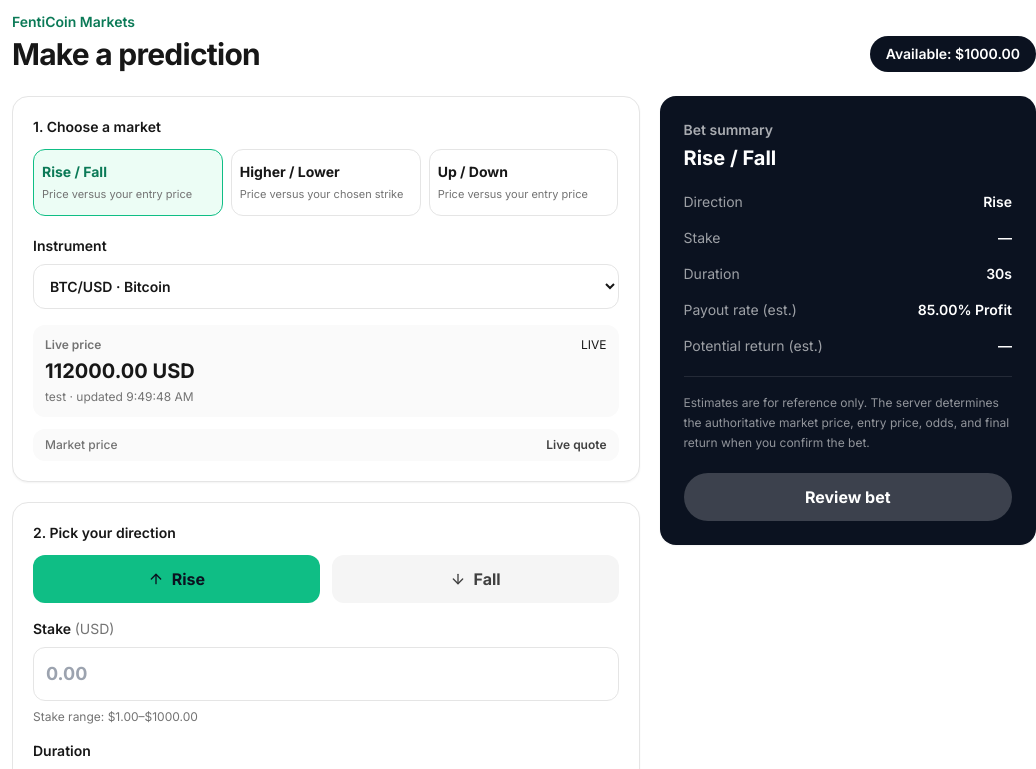
Test: BettingExperience › keeps Review bet disabled until a valid, in-bounds, affordable stake is entered
Expected: the button "Review bet" is disabled, [684, 473, 1012, 521]
Step 1. Select "BTC/USD · Bitcoin" in the dropdown labelled "Instrument" → (326, 286), box [33, 264, 618, 308]
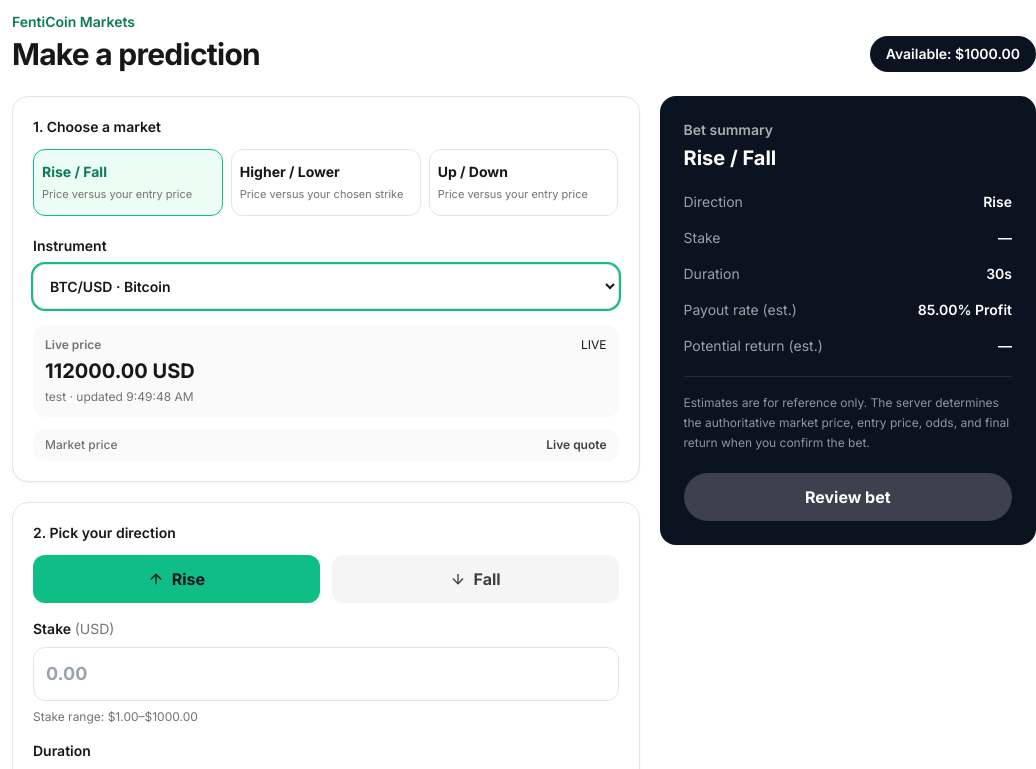
Expected: the text "Stake range: $1.00–$1000.00" is shown, [33, 708, 198, 724]
Step 2. Type "10" into the field labelled "Stake (USD)" → (326, 674), box [33, 646, 618, 700]
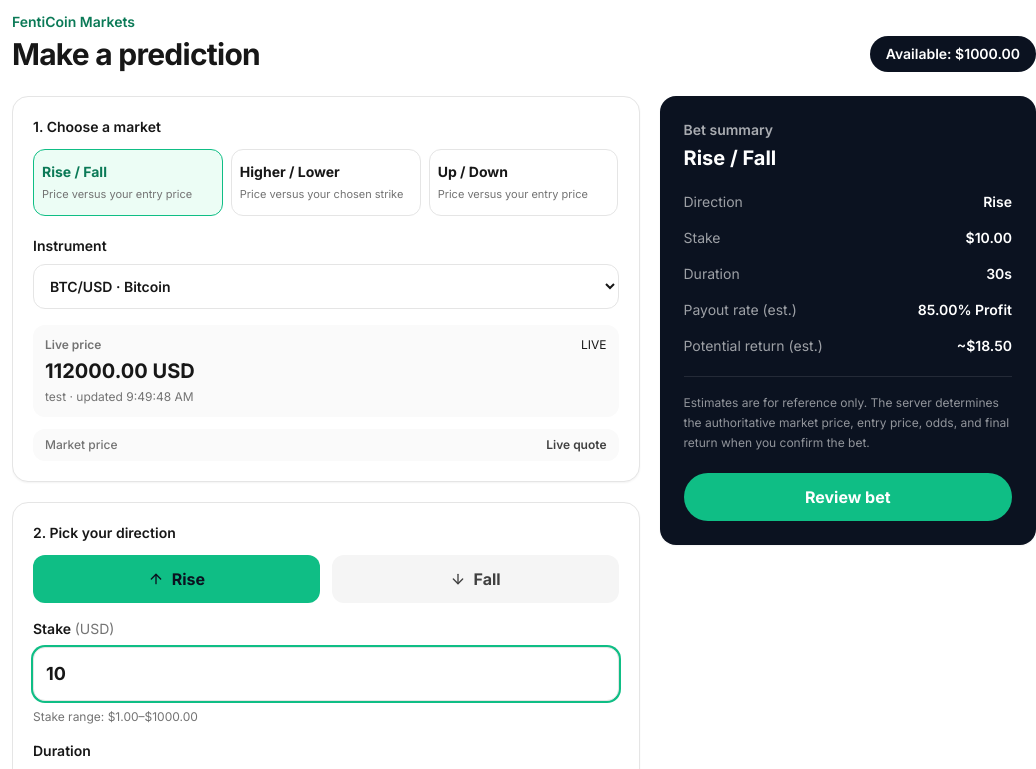
Now the button "Review bet" is enabled, box [684, 473, 1012, 521]
